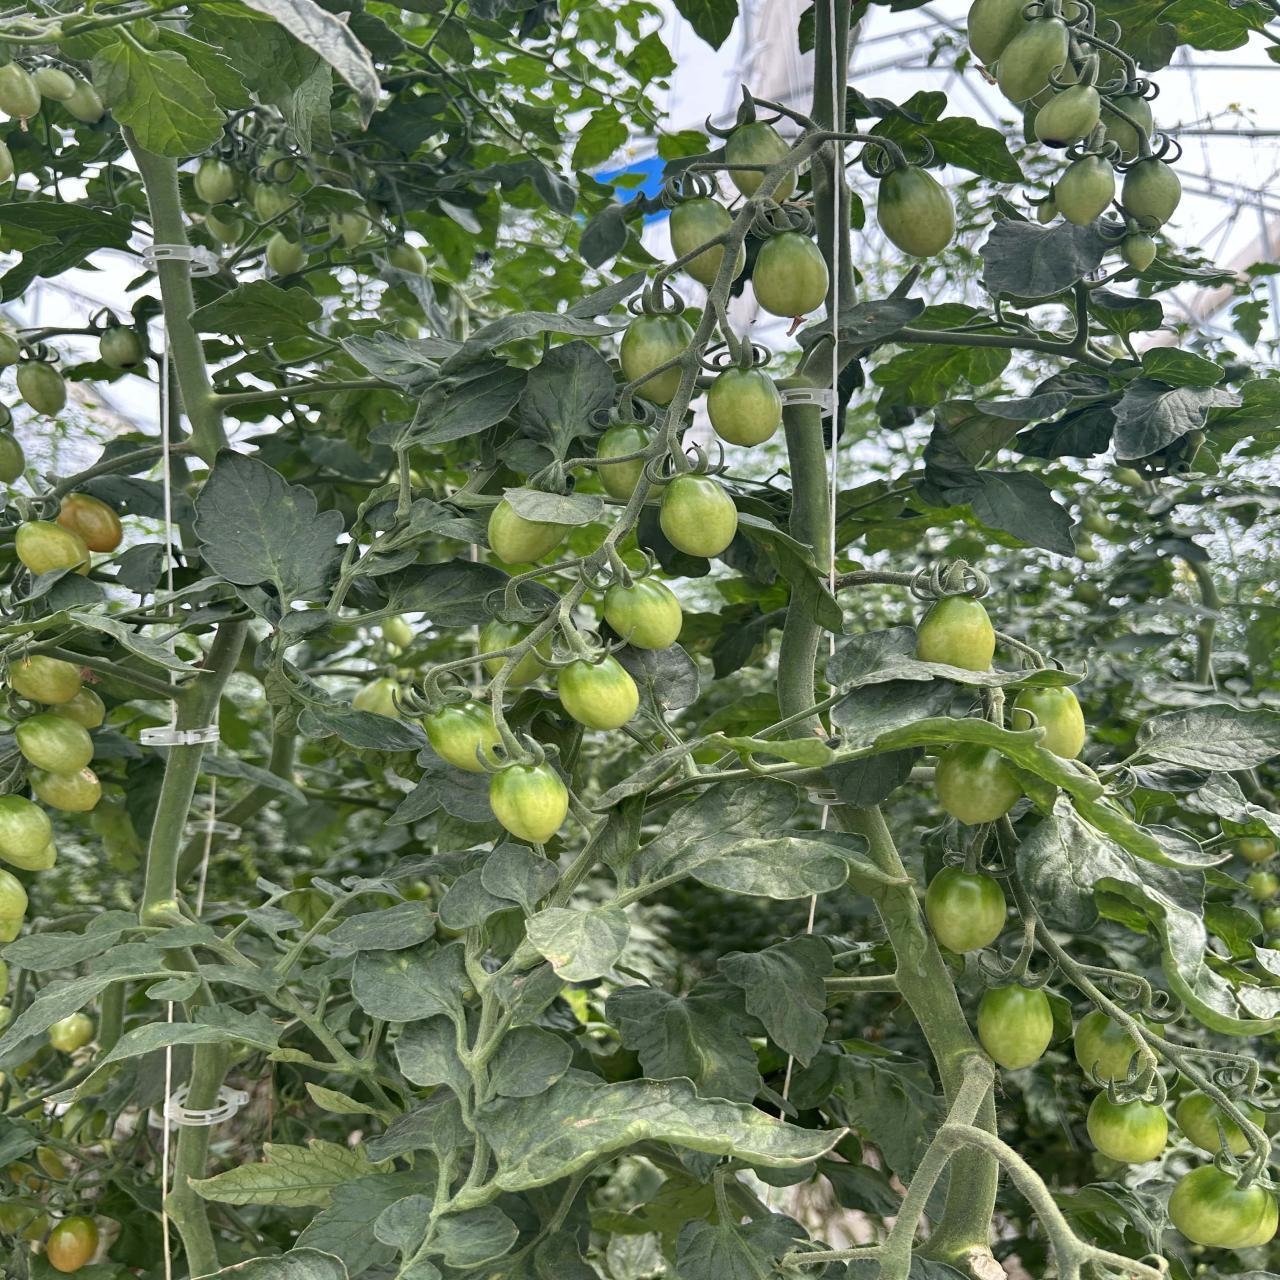Rugose leaf: (457, 1075, 838, 1208)
